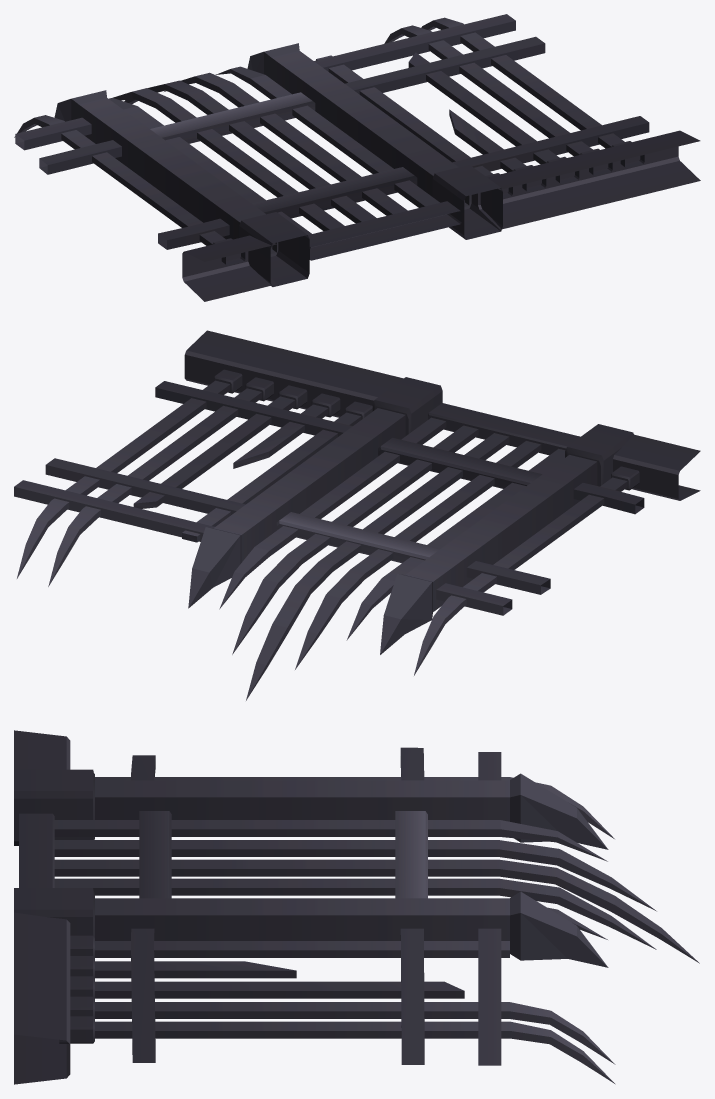
The model's file is Fence 02.FBX.
The picture shows the model from 3 angles, top to bottom: view 1: azimuth 30°, elevation 25°; view 2: azimuth 150°, elevation 25°; view 3: azimuth 270°, elevation 25°; orthographic projection. The views are drawn at different scales.
Visible parts, largest first — view 1: Fence 02, Fence 02 Gate; view 2: Fence 02, Fence 02 Gate; view 3: Fence 02, Fence 02 Gate.
Boxes of the visible parts, x1,y1,x2,y2 form: Fence 02: [14, 14, 700, 301]; Fence 02 Gate: [109, 66, 461, 260]; Fence 02: [14, 330, 700, 675]; Fence 02 Gate: [219, 403, 580, 700]; Fence 02: [14, 730, 615, 1084]; Fence 02 Gate: [19, 811, 699, 963].
Size of the model in its own units: 374 by 70.55 by 355.
